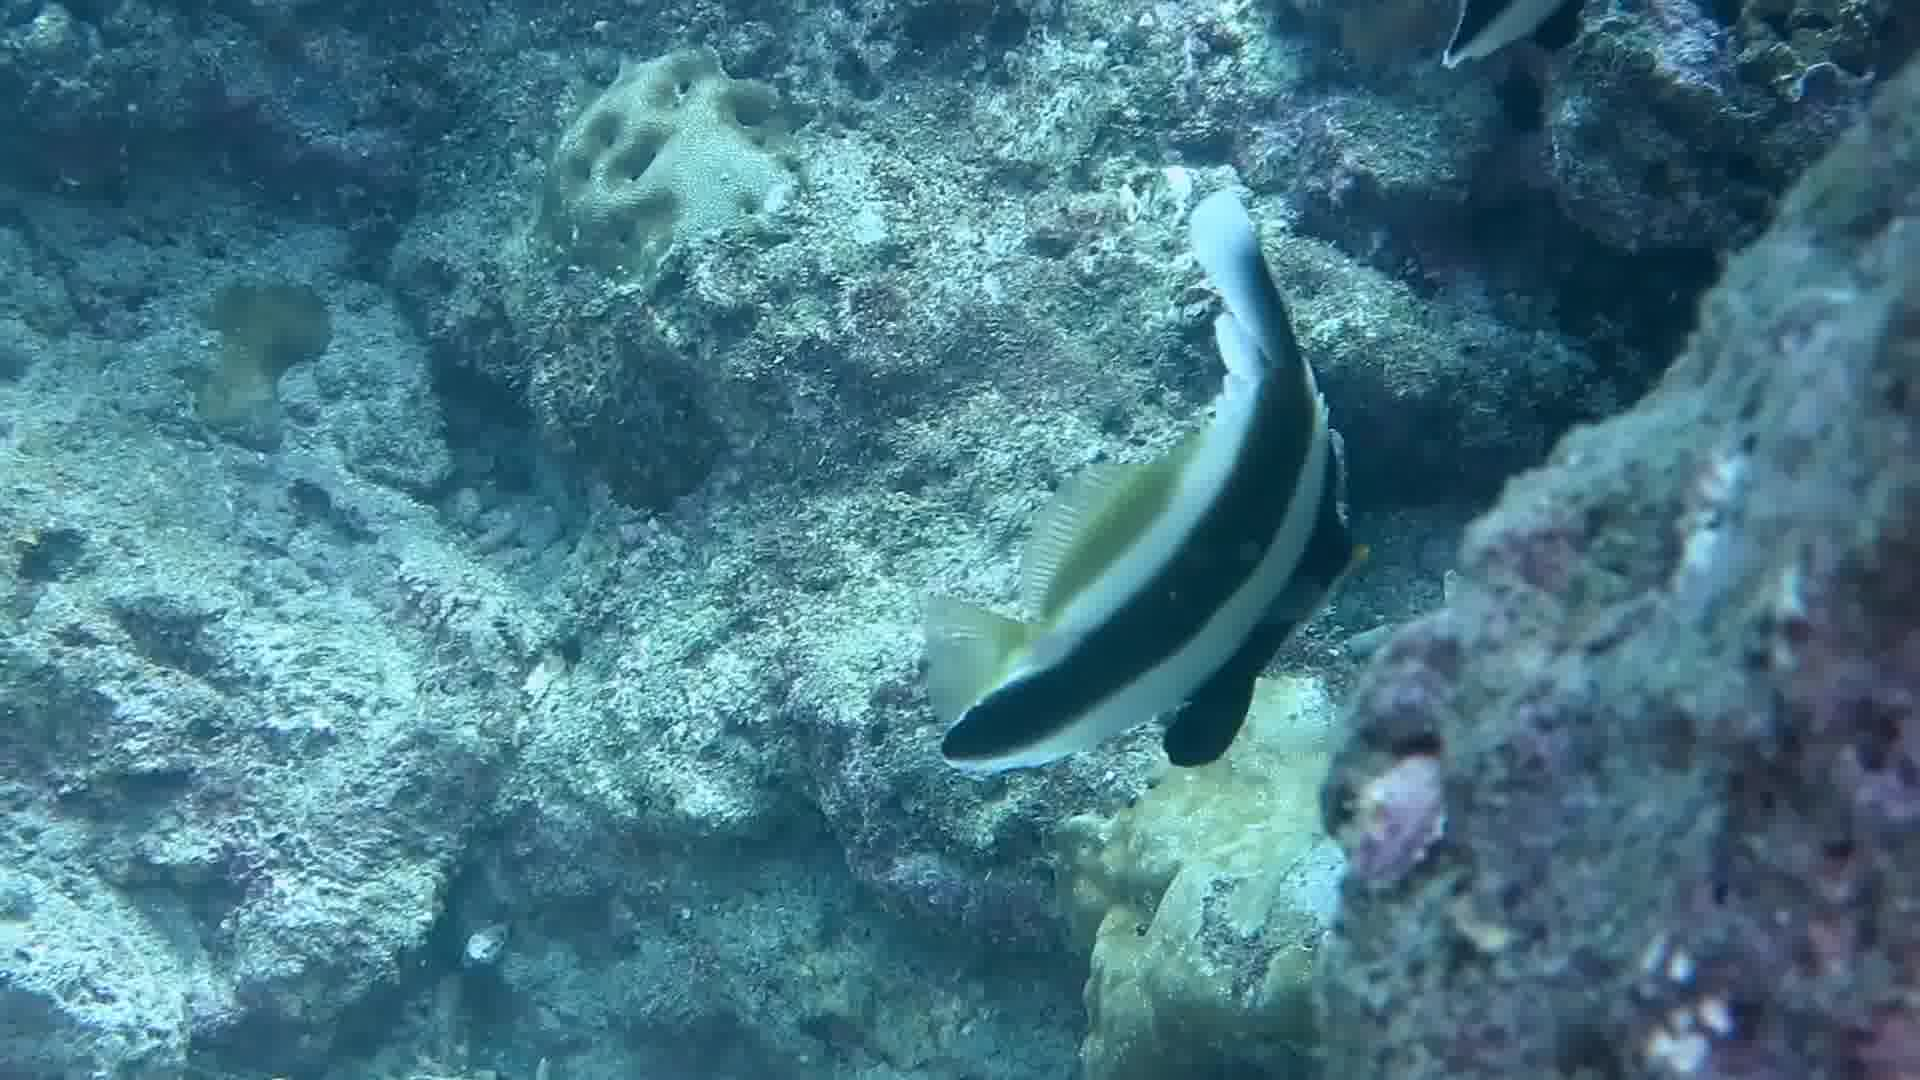Heniochus chrysostomus: (880, 186, 1414, 829)
